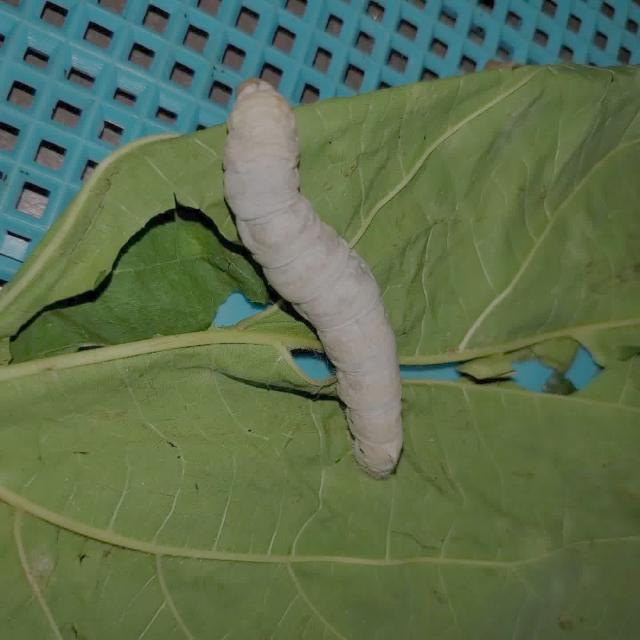Grasserie: (181, 51, 451, 506)
